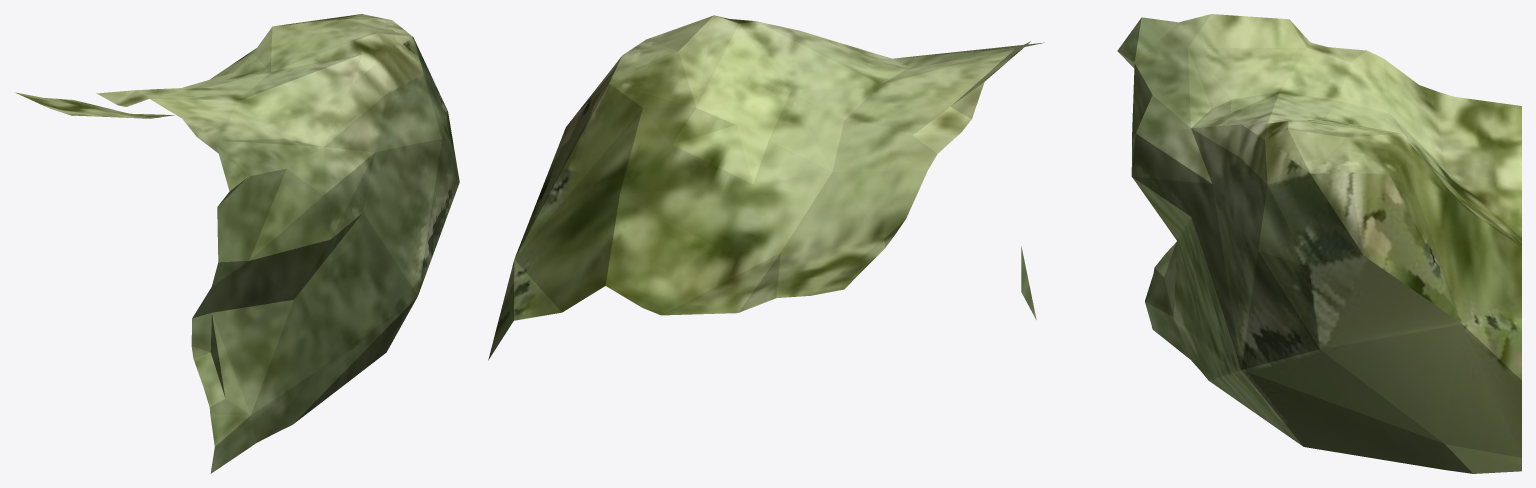
3 views of the same model, side by side, from view 1: azimuth 30°, elevation 25°; view 2: azimuth 150°, elevation 25°; view 3: azimuth 270°, elevation 25° (orthographic). The views are drawn at different scales.
Size of the model in its own units: 1.44 by 1.36 by 1.59.
1 material, 1 textured.
